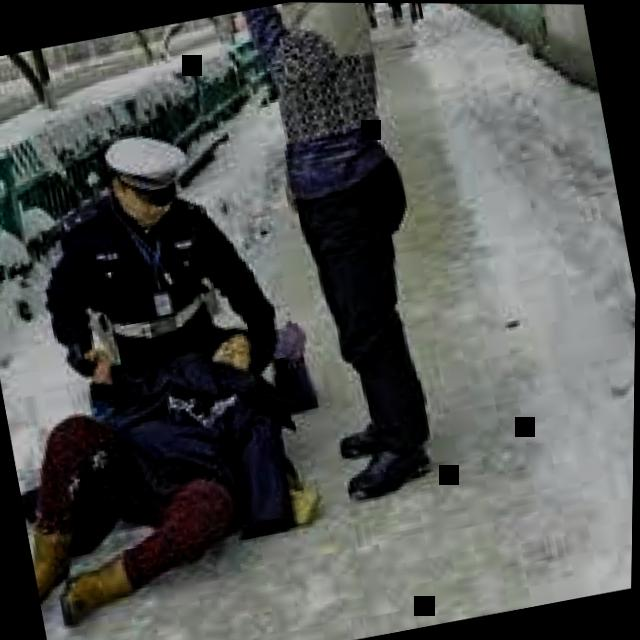Fall-Detected: (0, 299, 361, 640)
